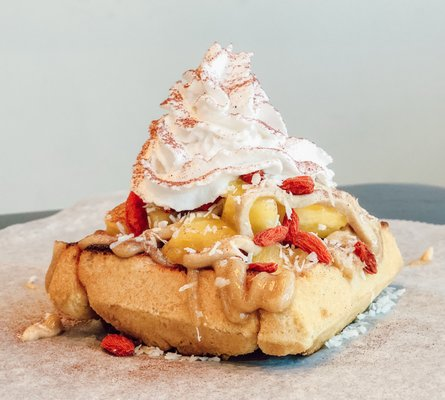soup: (39, 42, 402, 363)
